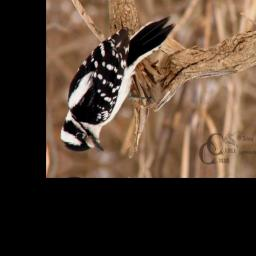Woodpecker: (58, 5, 177, 158)
